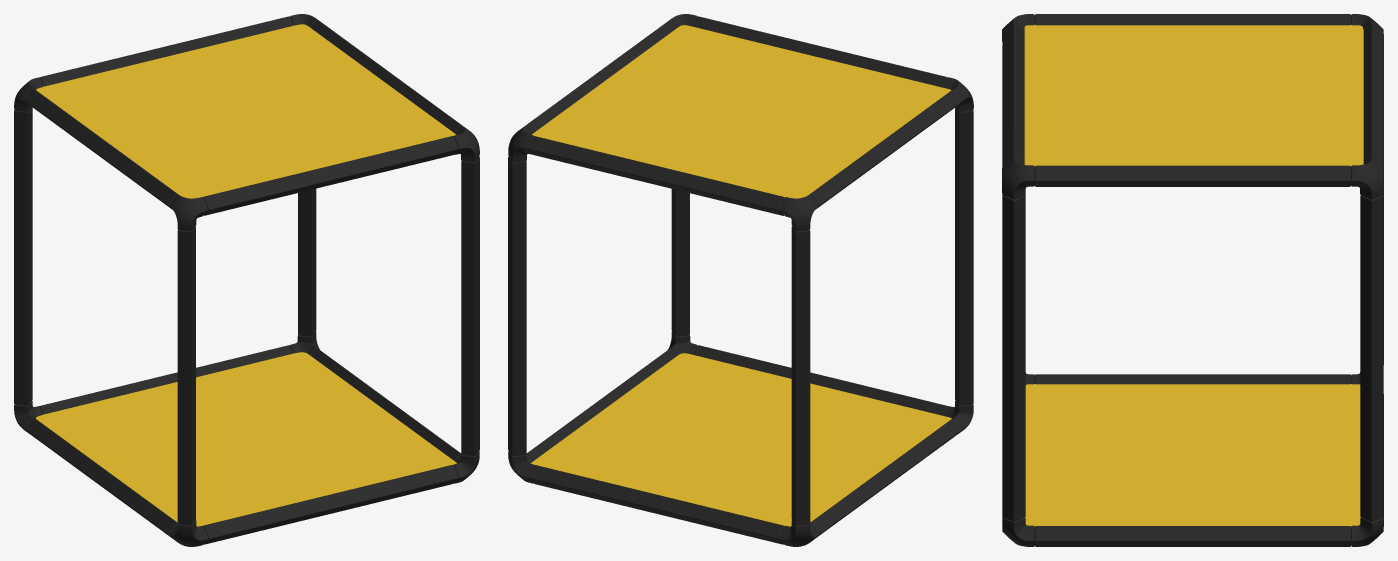
3 views of the same model, side by side, from view 1: azimuth 30°, elevation 25°; view 2: azimuth 150°, elevation 25°; view 3: azimuth 270°, elevation 25° (orthographic). The views are drawn at different scales.
Visible parts, largest first — view 1: 374x374x420; view 2: 374x374x420; view 3: 374x374x420.
Boxes of the visible parts, left/top/right/bottom form: 374x374x420: left=14, top=14, right=479, bottom=546; 374x374x420: left=508, top=14, right=973, bottom=546; 374x374x420: left=1002, top=14, right=1383, bottom=546.
Size of the model in its own units: 0.4517 by 0.4976 by 0.4513.
